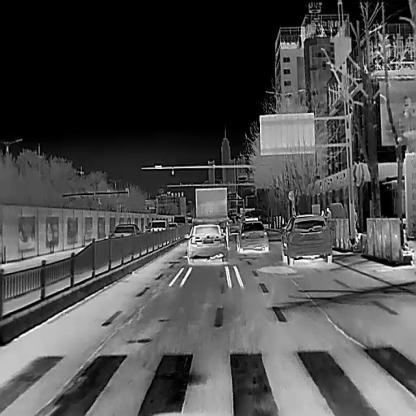car: (281, 212, 333, 265), (183, 223, 228, 263), (194, 186, 228, 224), (235, 220, 269, 252), (111, 224, 141, 237), (150, 218, 169, 231), (324, 207, 332, 219), (320, 210, 324, 217)
